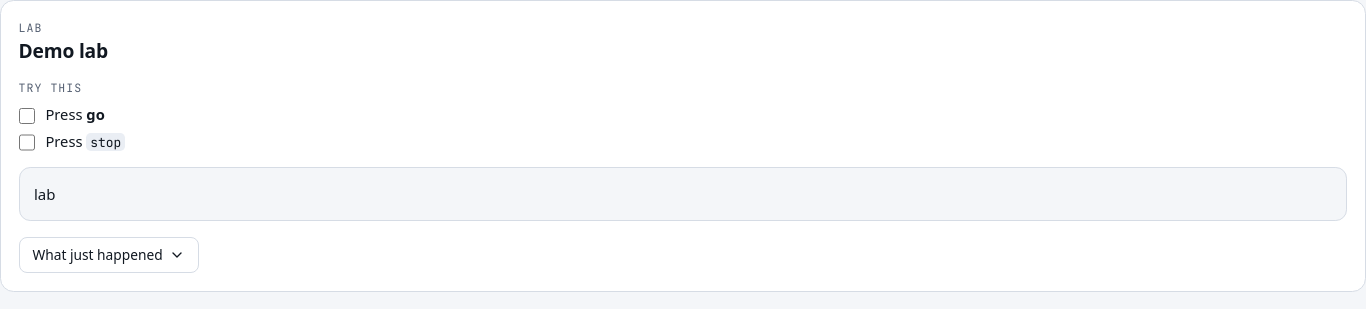
Scenario: LabFrame › lets the visitor tick items without persisting anything
Click the checkbox labelled "Press go".
click(27, 116)  # box [19, 108, 35, 124]
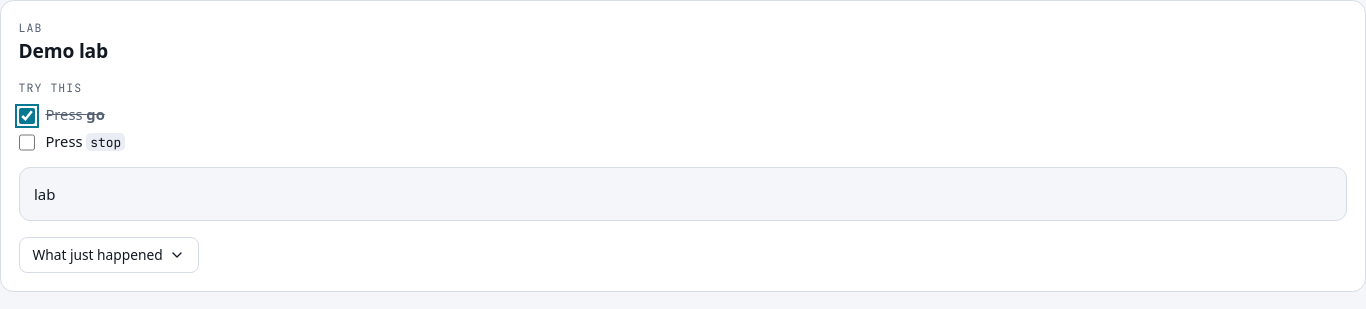
Expected: the checkbox labelled "Press stop" is not checked, [19, 134, 35, 151]
Now the checkbox labelled "Press go" is checked, box [19, 108, 35, 124]
